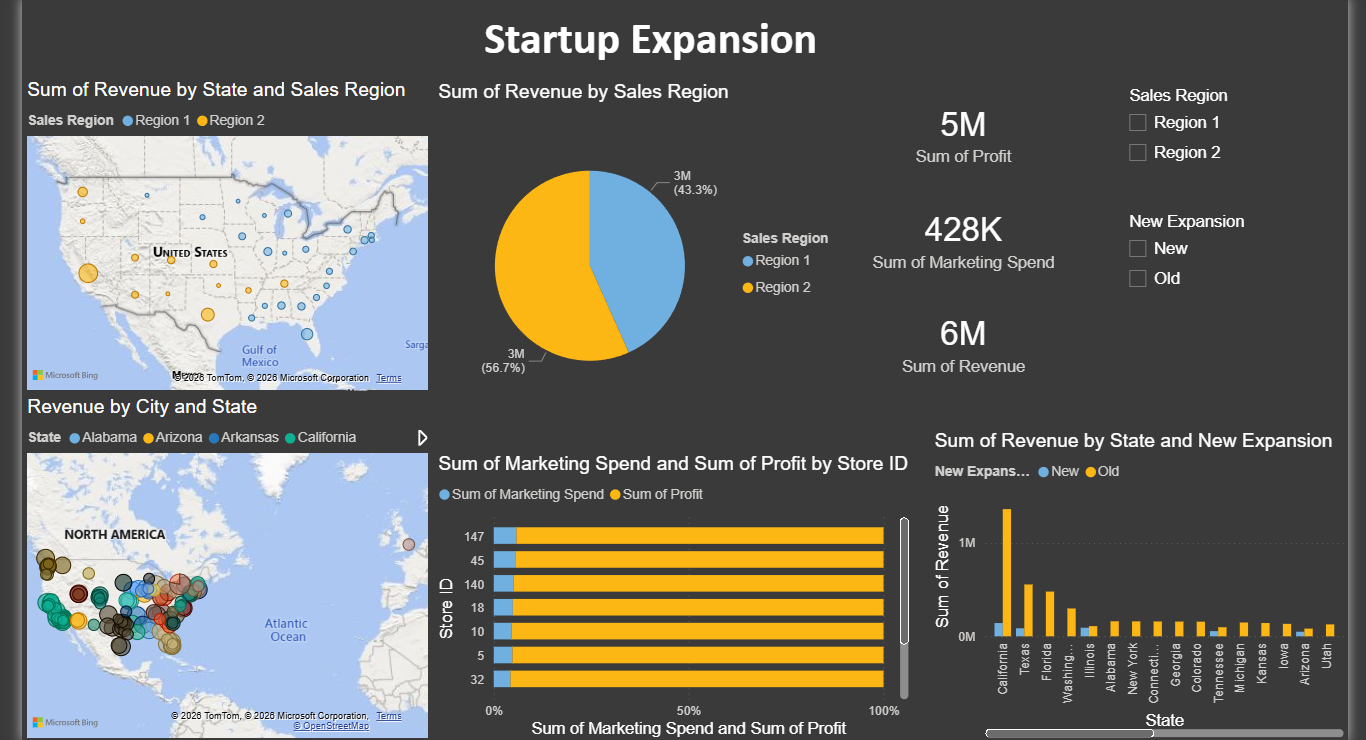

What the dashboard file says about the page in this screenshot:
{"tool":"powerbi","page":{"name":"Overview","canvas":[1280,720],"ordinal":0},"visuals":[{"type":"map","fields":{"Category":["startups-expansion-modified.State"],"Size":["Sum(startups-expansion-modified.Revenue)"],"Series":["startups-expansion-modified.Sales Region"]},"box":[0,79.6,396.6,306],"z":0},{"type":"textbox","box":[212.7,9.6,789,70],"z":1000},{"type":"map","fields":{"Category":["startups-expansion-modified.City"],"Series":["startups-expansion-modified.State"],"Size":["Sum(startups-expansion-modified.Revenue)"]},"box":[0,385.6,396.6,334.8],"z":2000},{"type":"hundredPercentStackedBarChart","fields":{"Category":["startups-expansion-modified.Store ID"],"Y":["Sum(startups-expansion-modified.Marketing Spend)","Sum(startups-expansion-modified.Profit)"]},"box":[396.6,440.5,463.8,279.9],"z":3000},{"type":"pieChart","fields":{"Y":["Sum(startups-expansion-modified.Revenue)"],"Series":["startups-expansion-modified.Sales Region"]},"box":[396.6,82.3,404.8,336.2],"z":4000},{"type":"card","fields":{"Values":["Sum(startups-expansion-modified.Profit)"]},"box":[801.4,79.6,215.4,104.3],"z":5000},{"type":"card","fields":{"Values":["Sum(startups-expansion-modified.Marketing Spend)"]},"box":[801.4,183.9,215.4,100.2],"z":6000},{"type":"clusteredColumnChart","fields":{"Category":["startups-expansion-modified.State"],"Y":["Sum(startups-expansion-modified.Revenue)"],"Series":["startups-expansion-modified.New Expansion"]},"box":[875.5,418.5,404.8,301.9],"z":7000},{"type":"slicer","fields":{"Values":["startups-expansion-modified.Sales Region"]},"box":[1055.2,82.3,197.6,101.5],"z":7001},{"type":"slicer","fields":{"Values":["startups-expansion-modified.New Expansion"]},"box":[1055.2,204.5,197.6,91.9],"z":7002},{"type":"card","fields":{"Values":["Sum(startups-expansion-modified.Revenue)"]},"box":[801.4,284,215.4,101.5],"z":7003}]}

Visuals, with their boxes on the page's 1280x720 design canvas (x1, y1, x2, y2). These are canvas units, not pixel positions in the 1366x740 screenshot, which may show the page scaled, cropped or inside an application window:
map - startups-expansion-modified.State x Sum(startups-expansion-modified.Revenue): {"x1": 0, "y1": 80, "x2": 397, "y2": 386}
textbox: {"x1": 213, "y1": 10, "x2": 1002, "y2": 80}
map - startups-expansion-modified.City x startups-expansion-modified.State: {"x1": 0, "y1": 386, "x2": 397, "y2": 720}
hundredPercentStackedBarChart - startups-expansion-modified.Store ID x Sum(startups-expansion-modified.Marketing Spend): {"x1": 397, "y1": 440, "x2": 860, "y2": 720}
pieChart - Sum(startups-expansion-modified.Revenue) x startups-expansion-modified.Sales Region: {"x1": 397, "y1": 82, "x2": 801, "y2": 418}
card - Sum(startups-expansion-modified.Profit): {"x1": 801, "y1": 80, "x2": 1017, "y2": 184}
card - Sum(startups-expansion-modified.Marketing Spend): {"x1": 801, "y1": 184, "x2": 1017, "y2": 284}
clusteredColumnChart - startups-expansion-modified.State x Sum(startups-expansion-modified.Revenue): {"x1": 876, "y1": 418, "x2": 1280, "y2": 720}
slicer - startups-expansion-modified.Sales Region: {"x1": 1055, "y1": 82, "x2": 1253, "y2": 184}
slicer - startups-expansion-modified.New Expansion: {"x1": 1055, "y1": 204, "x2": 1253, "y2": 296}
card - Sum(startups-expansion-modified.Revenue): {"x1": 801, "y1": 284, "x2": 1017, "y2": 386}
